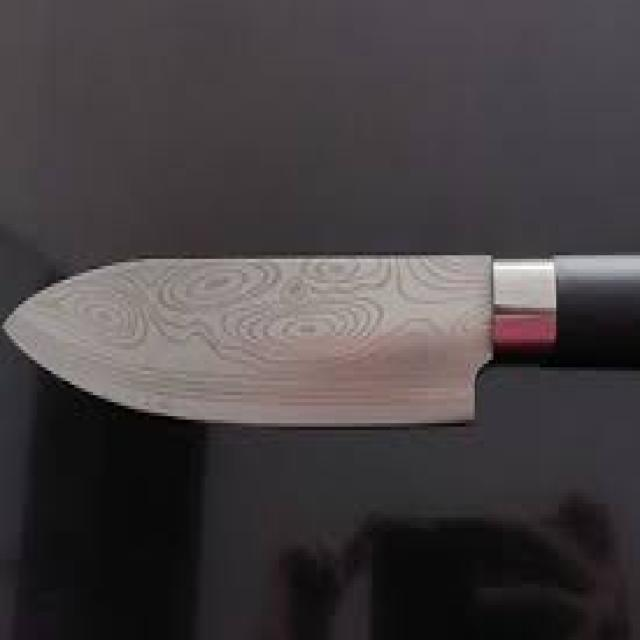Knife: (0, 245, 638, 430)
